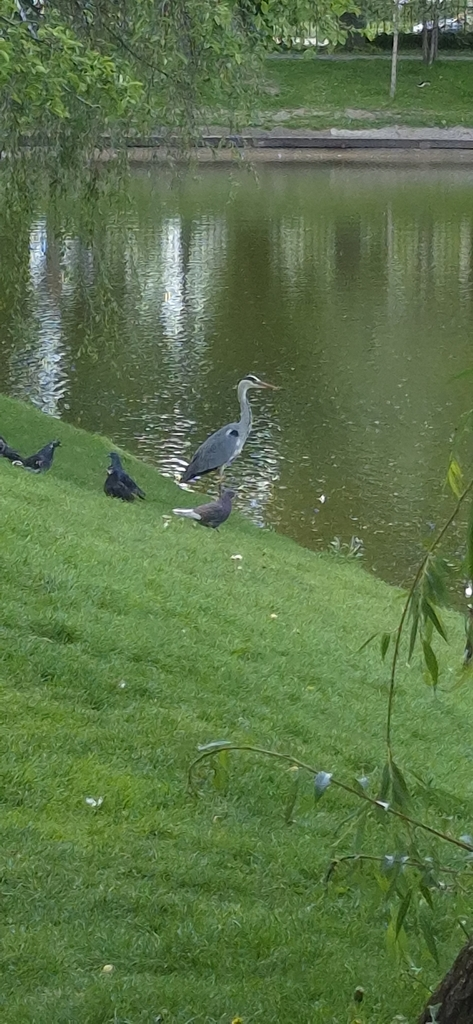heron: (173, 373, 277, 496)
